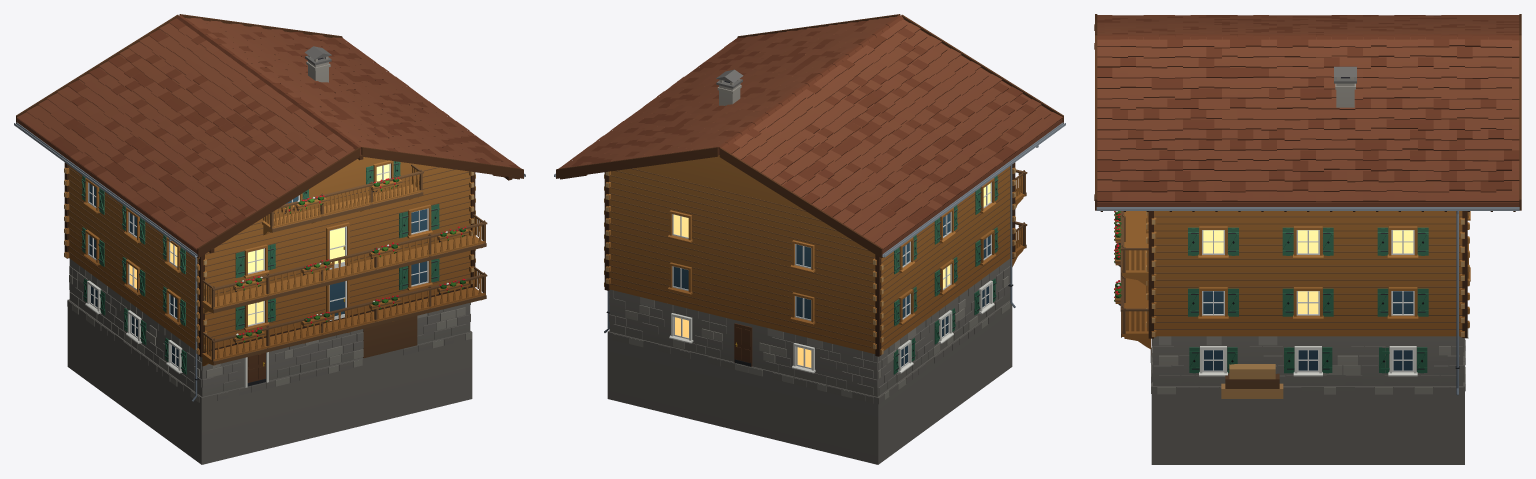
The model's file is Chalet_E.fbx.
3 views of the same model, side by side, from view 1: azimuth 30°, elevation 25°; view 2: azimuth 150°, elevation 25°; view 3: azimuth 270°, elevation 25° (orthographic). The views are drawn at different scales.
Visible parts, largest first — view 1: Chalet_E_LOD0; view 2: Chalet_E_LOD0; view 3: Chalet_E_LOD0.
Part boxes in pixels (x1,y1,x2,y2): Chalet_E_LOD0: [14, 14, 525, 464]; Chalet_E_LOD0: [554, 14, 1065, 464]; Chalet_E_LOD0: [1094, 14, 1521, 464].
Size of what is drawn, in the model's own units: 17.28 by 15.25 by 16.52.
Materials: 1 (1 with a texture image).
